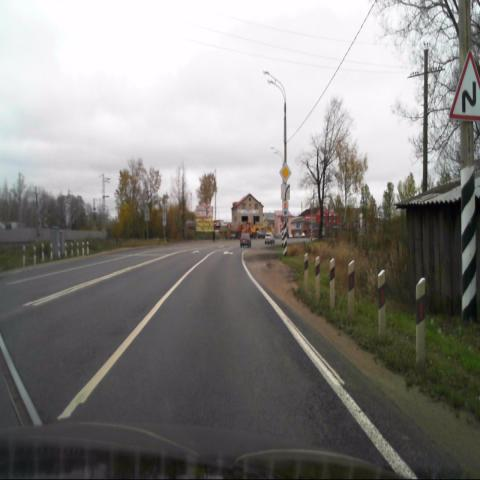1_12: (450, 50, 480, 122)
2_1: (279, 162, 291, 183)
